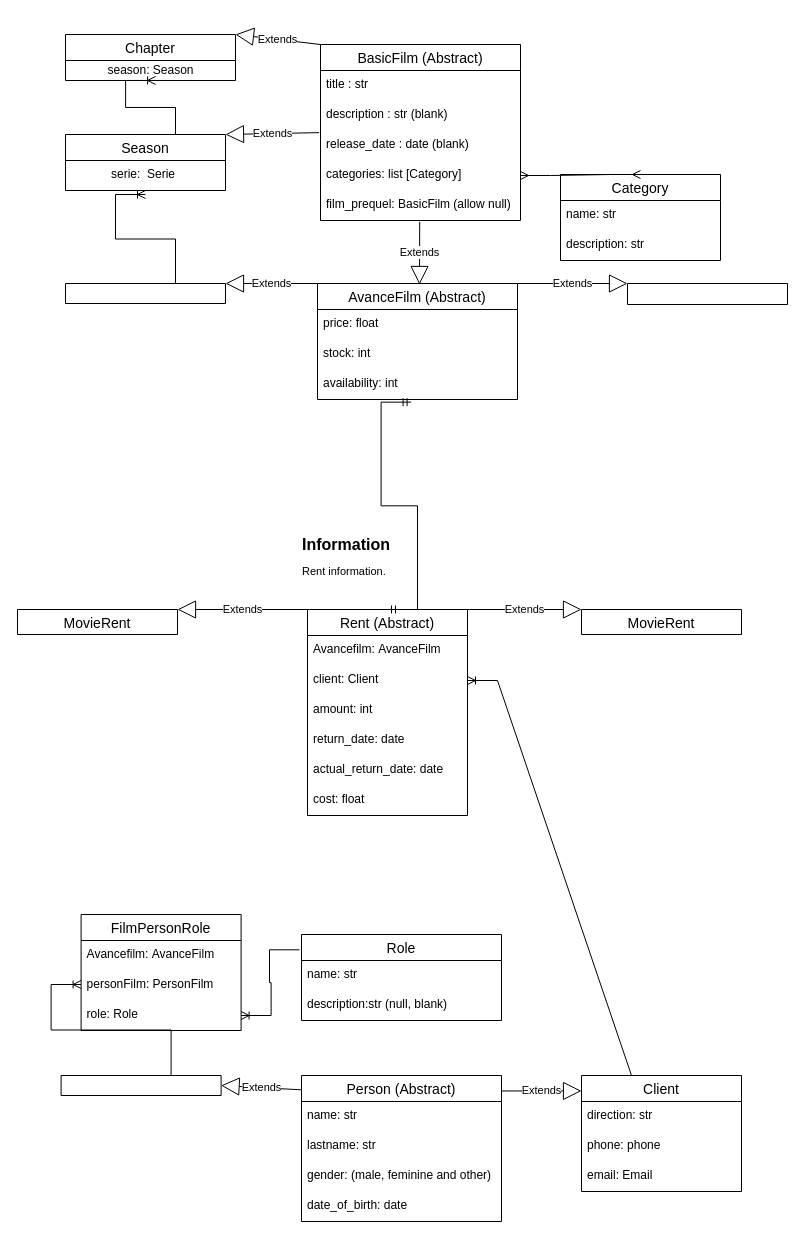
This 805x1242 diagram has some shape labels left out. The centre of each missing label's shape, as x and y in pixels:
Movie: the point at 707,293
PersonFilm: the point at 140,1085
Serie: the point at 145,293
